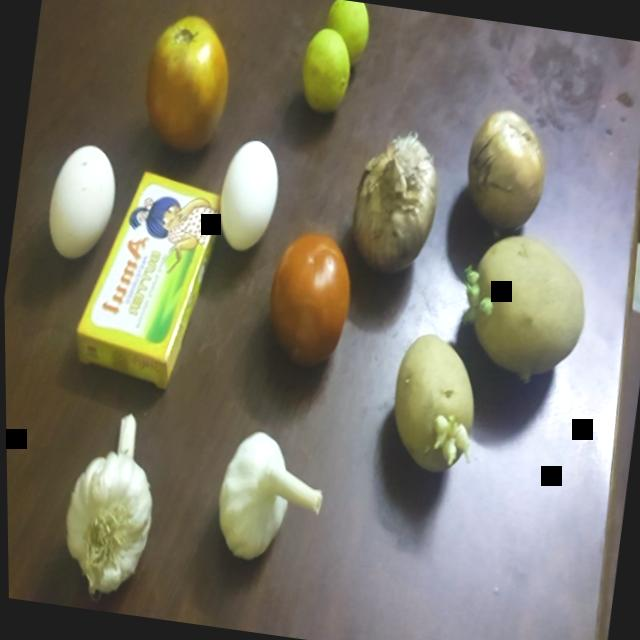butter: (63, 162, 234, 396)
eggs: (41, 135, 125, 264), (212, 131, 287, 257)
garlic: (56, 402, 169, 603), (207, 423, 335, 570)
lemon: (297, 21, 359, 117), (317, 0, 374, 65)
onion: (343, 125, 455, 277), (455, 105, 558, 237)
potato: (449, 232, 595, 379), (374, 330, 486, 481)
tomato: (256, 230, 361, 380), (139, 7, 241, 158)
